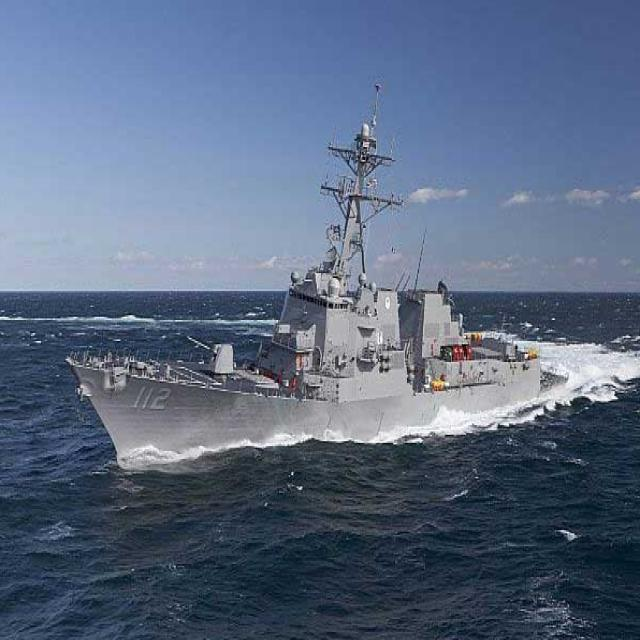navalvessels: (66, 92, 560, 464)
